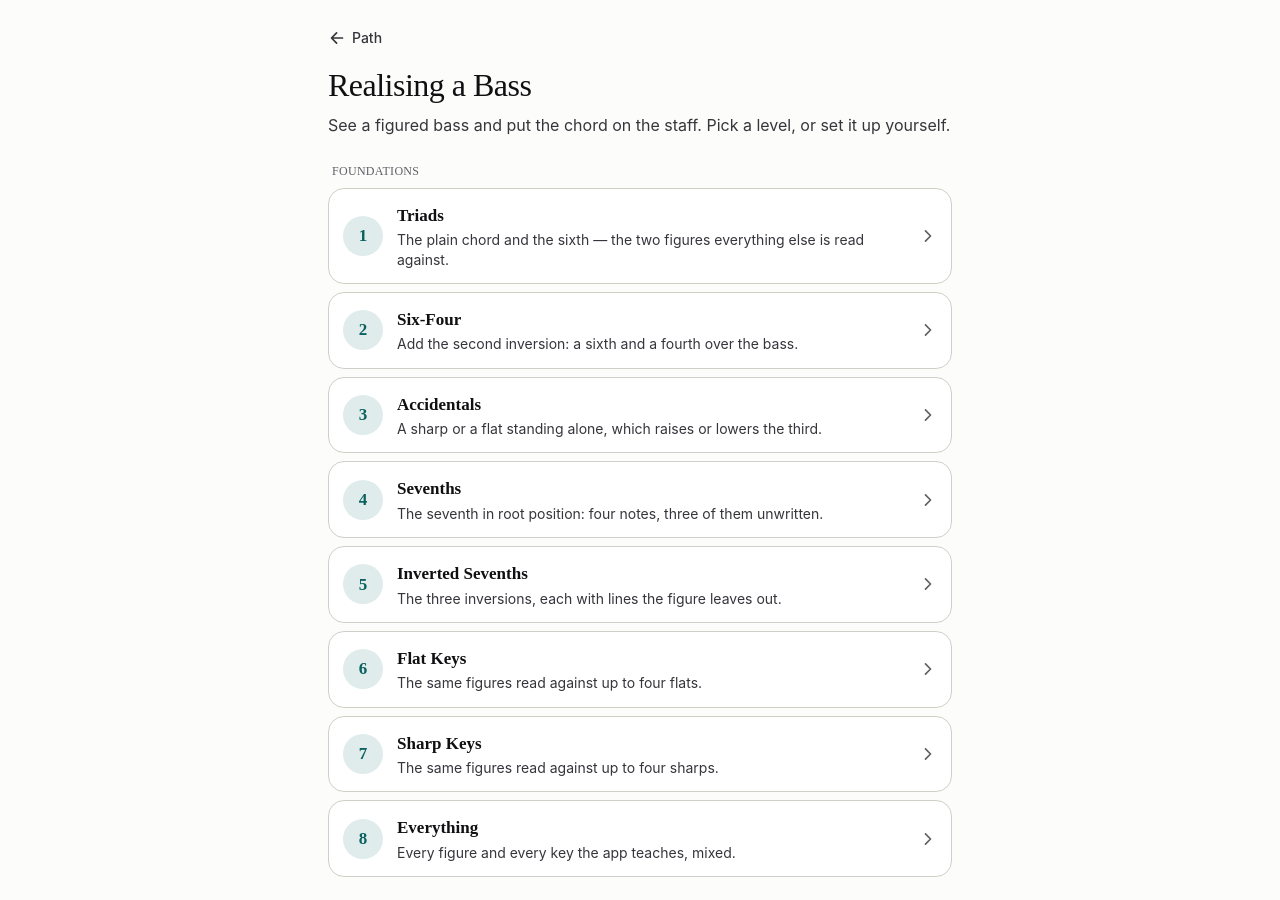
it: realising a bass › offers a key per note of the scale, and answers when the chord is full
Expected: the text "Triads" is shown, [397,206,444,225]
Step 1. Click the button "Triads" → (640, 236), box [328,188,952,284]
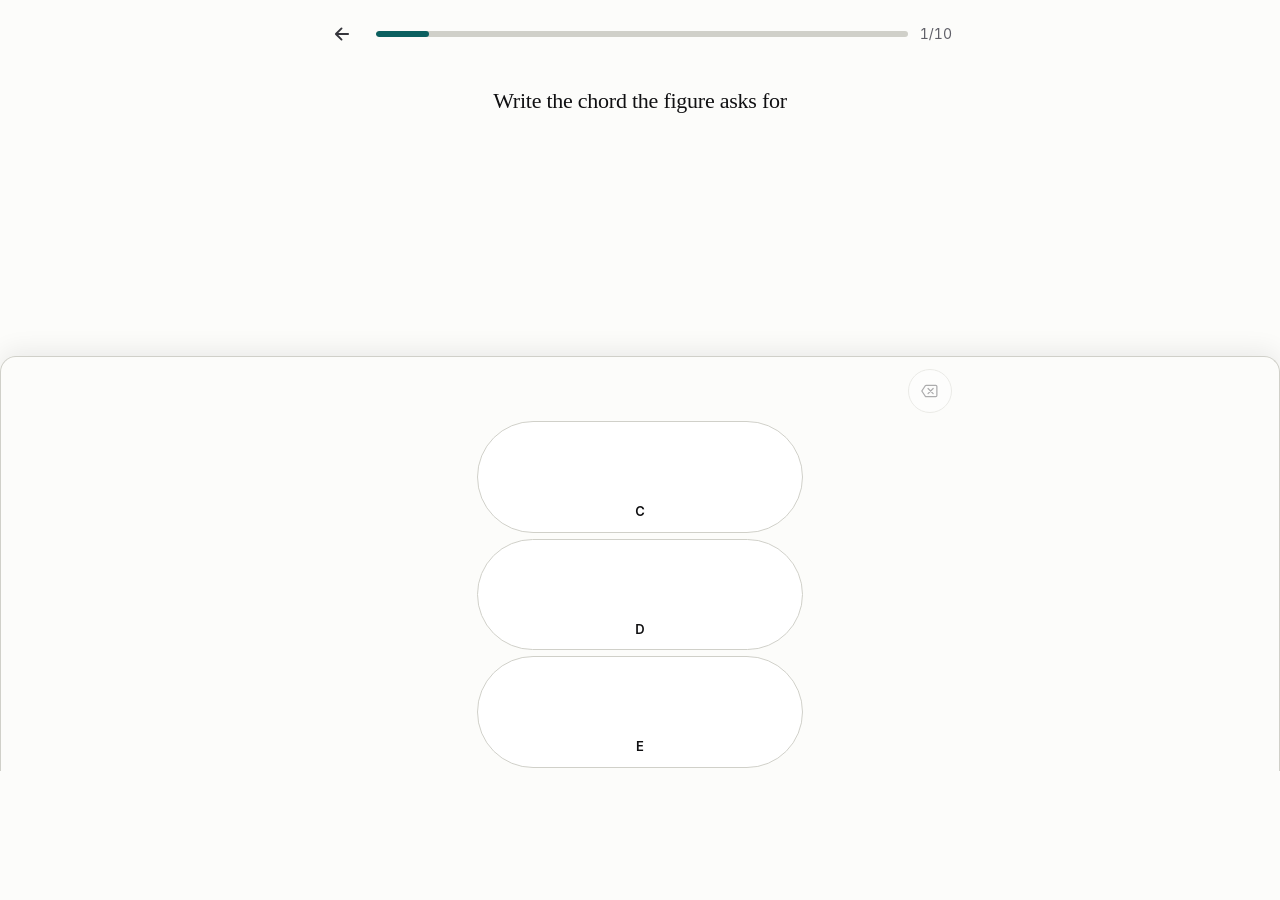
Expected: the heading "Write the chord the figure asks for" is shown, [493,88,787,114]
Step 2. Click the button "C" → (640, 477), box [477,421,803,533]
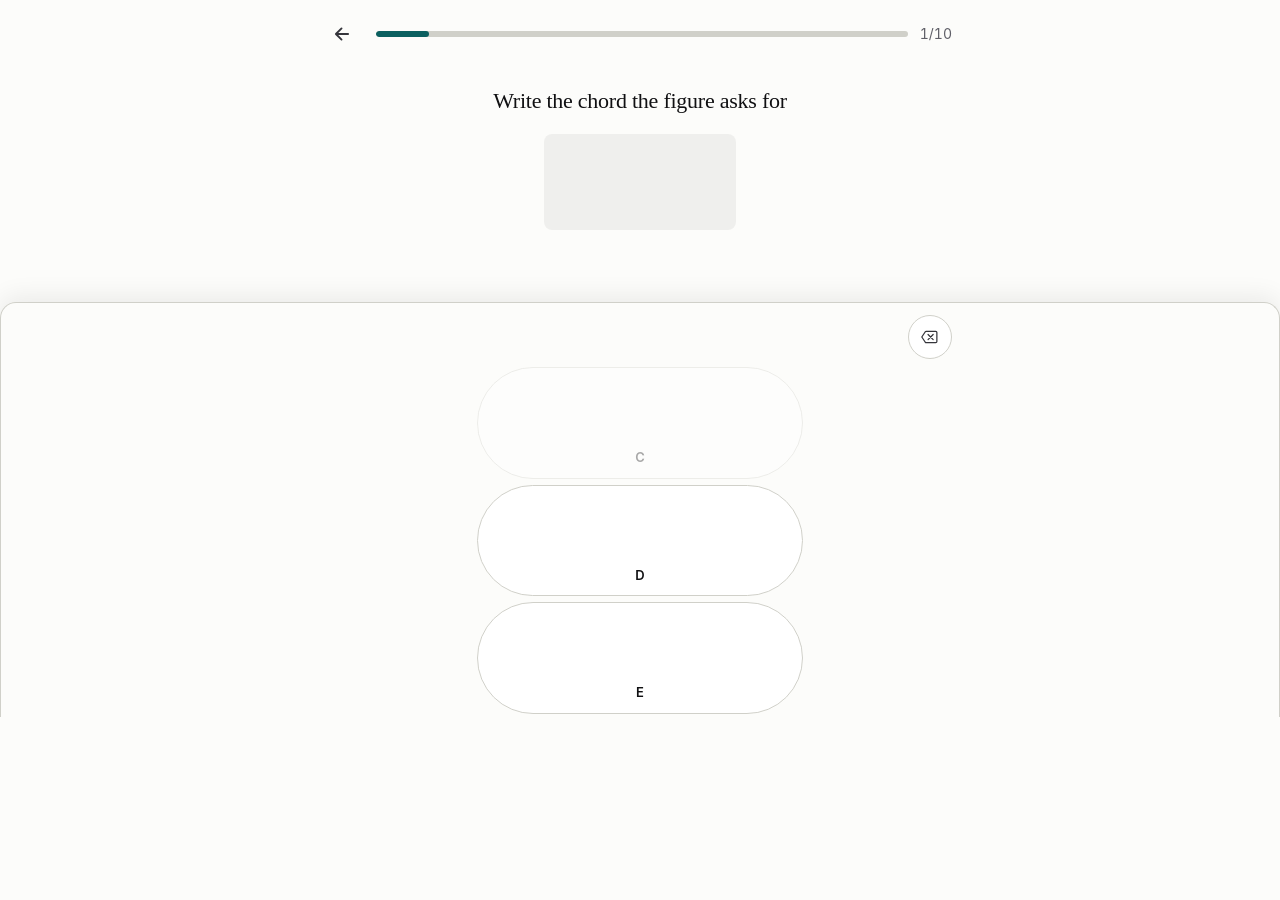
Step 3. Click the button "D" → (640, 541), box [477,485,803,596]
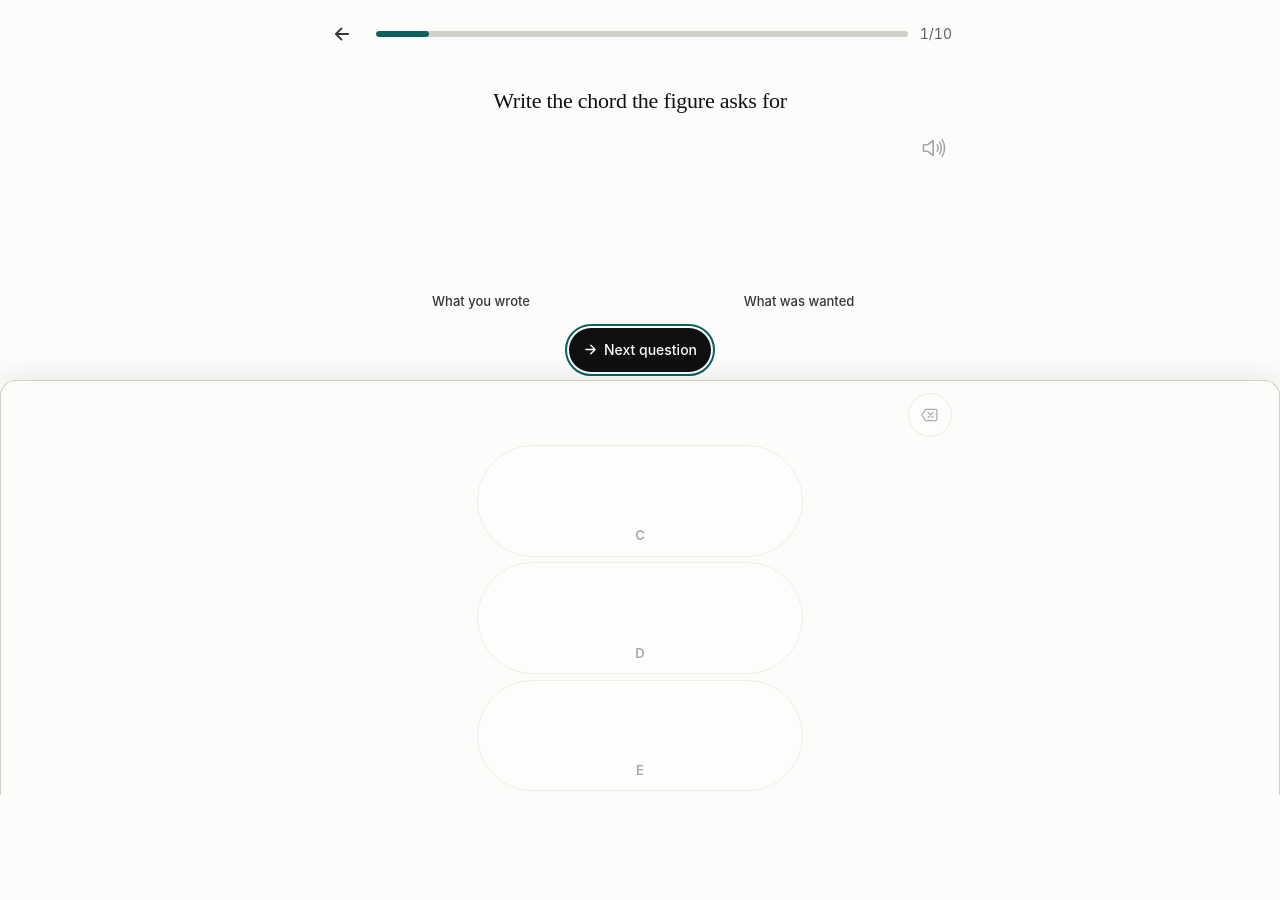
Expected: the button "Next question" is shown, [569,328,711,372]
